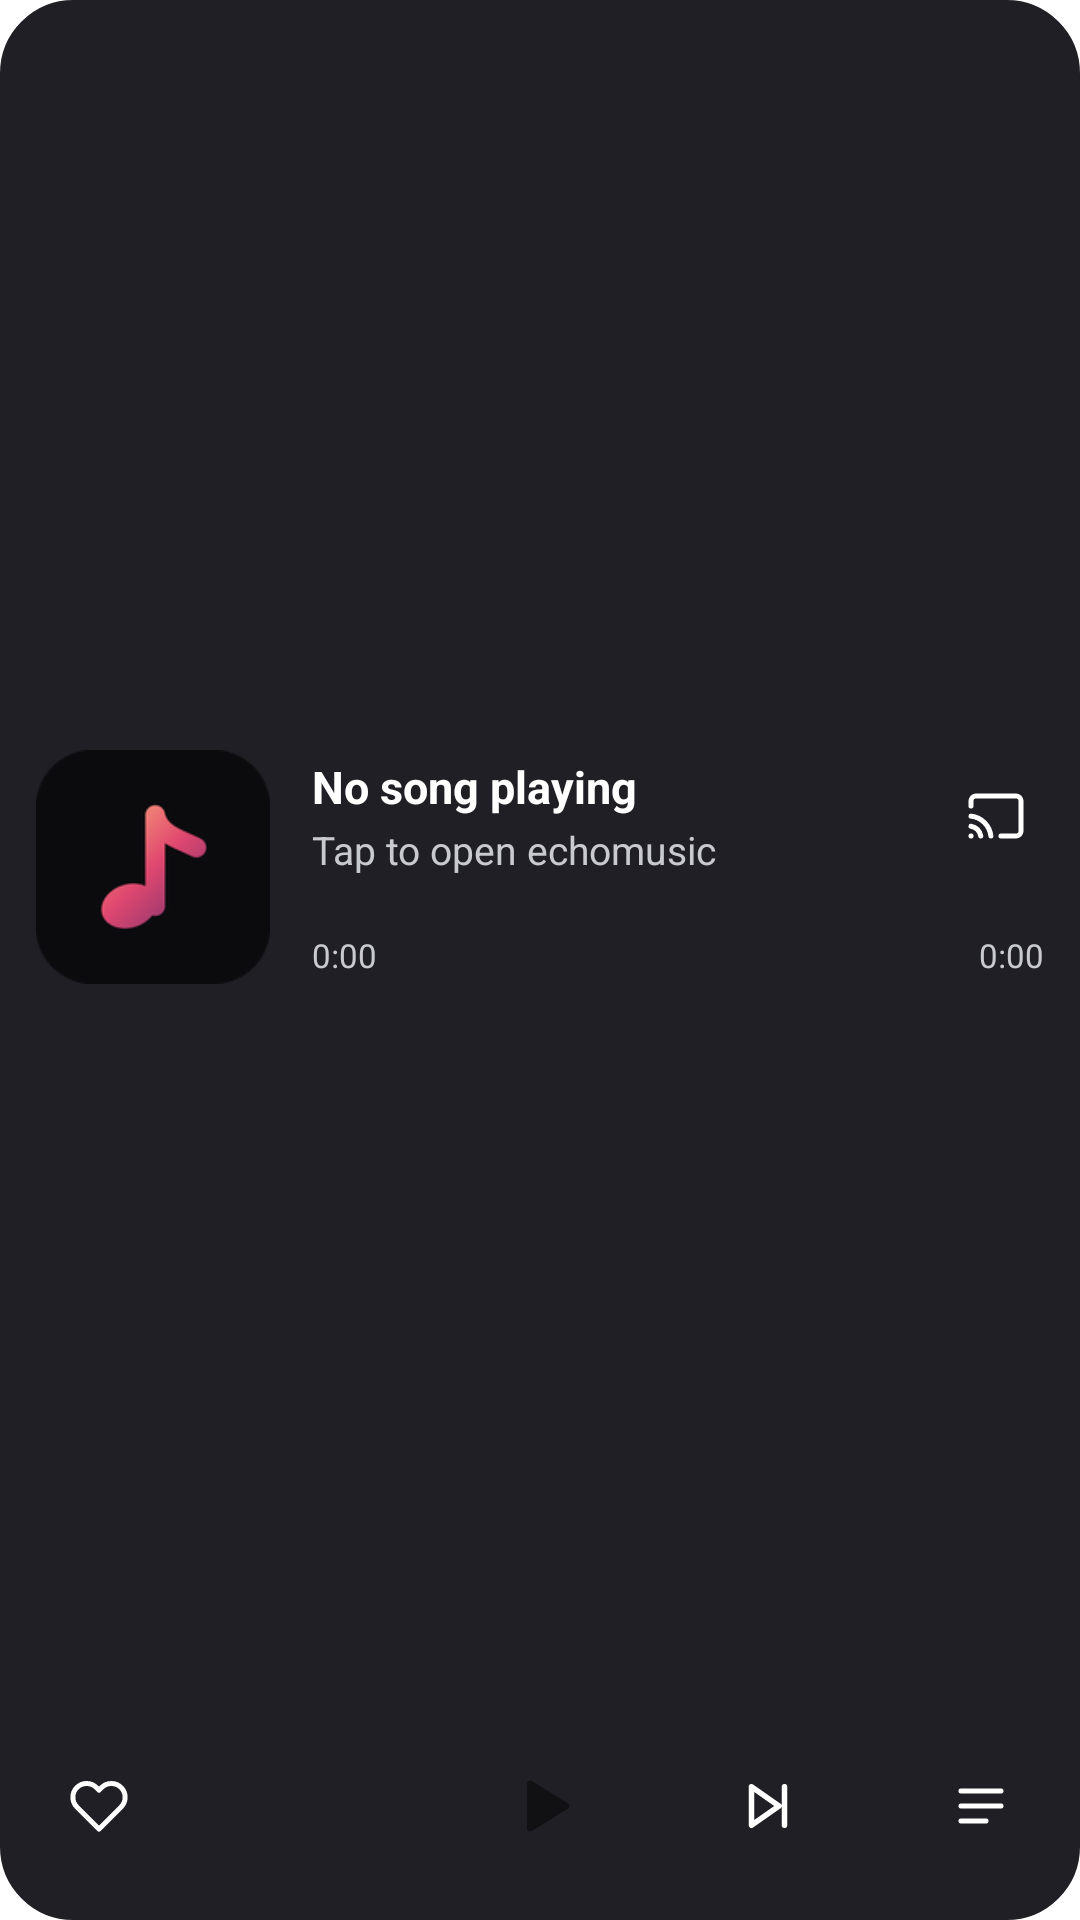

Icon bounding boxes for this 1080*1920 phone screenshot, format (x1=x1, y1=y1, x2=x2, y2=y2):
Cast: (x1=968, y1=793, x2=1024, y2=839)
Like: (x1=70, y1=1781, x2=128, y2=1832)
Next: (x1=748, y1=1784, x2=788, y2=1828)
Queue: (x1=958, y1=1788, x2=1004, y2=1824)
